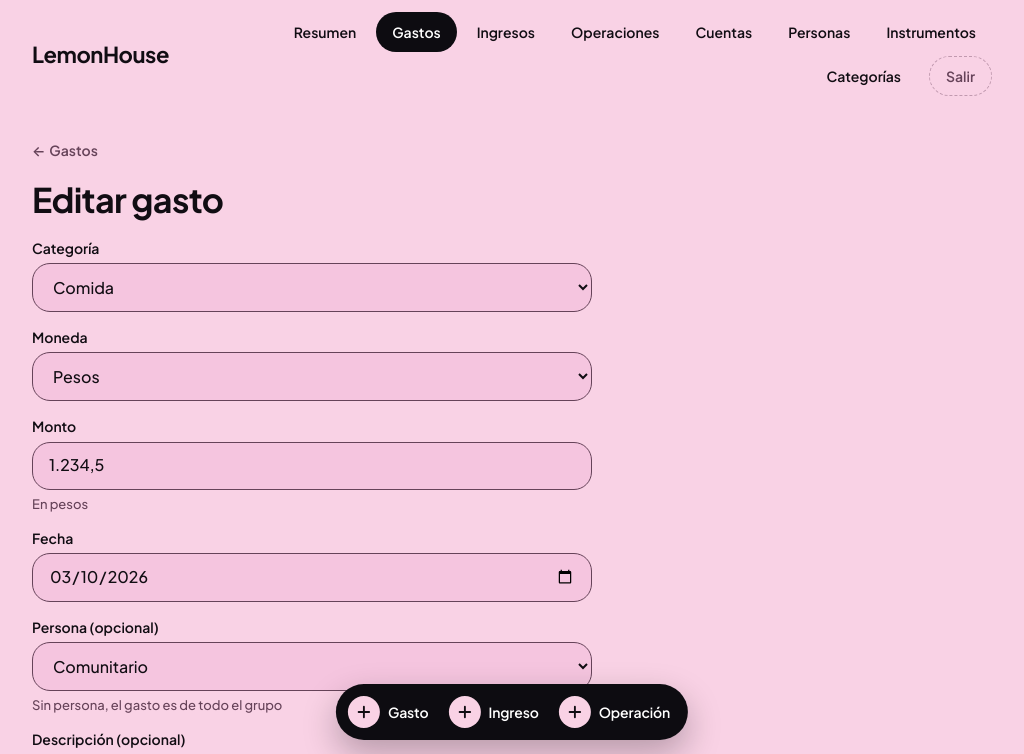
Test case: gastos › se edita, el detalle dice quién lo cargó (C27), y se borra
Expected: the dropdown labelled "Persona (opcional)" shows "Comunitario", 32,642 -> 592,691
Replace the text in the field labelled "Monto" with "2.000" at (312, 466), box 32,442 -> 592,490
(page scrolled)
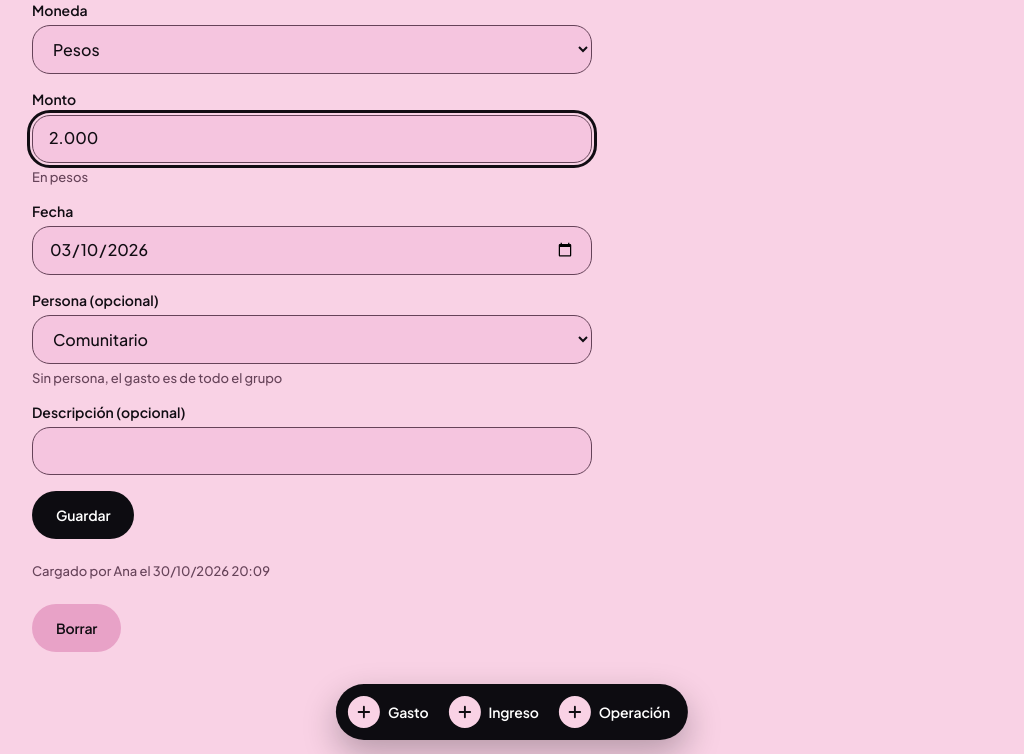
Click the button "Guardar" at (83, 515), box 32,491 -> 134,539
(page scrolled)
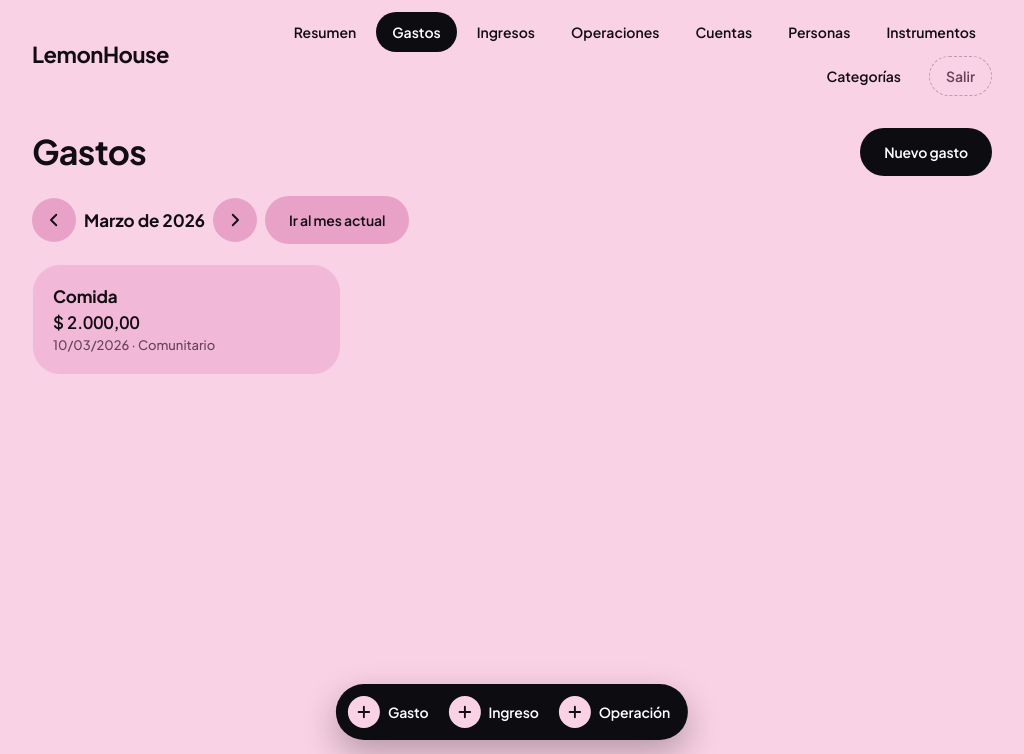
Expected: the link "Comida $ 2.000,00 10/03/2026 · Comunitario" is shown
Click the link "Comida $ 2.000,00 10/03/2026 · Comunitario" at (85, 296), box 32,264 -> 341,375
(page scrolled)
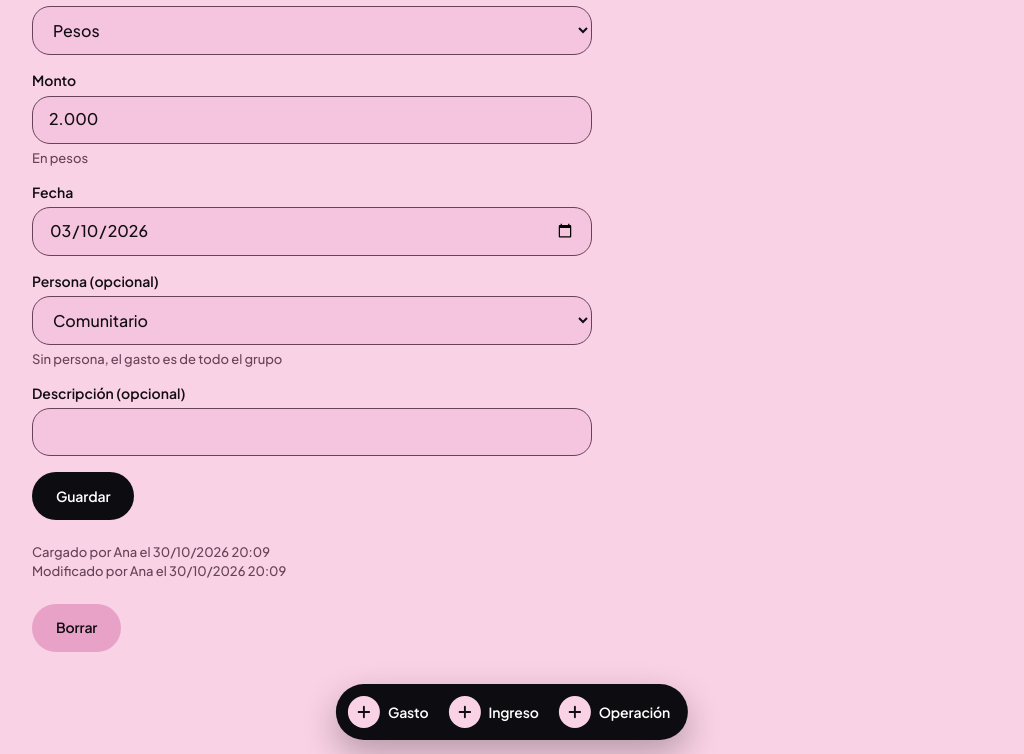
Click the button "Borrar" at (77, 628), box 32,604 -> 121,652
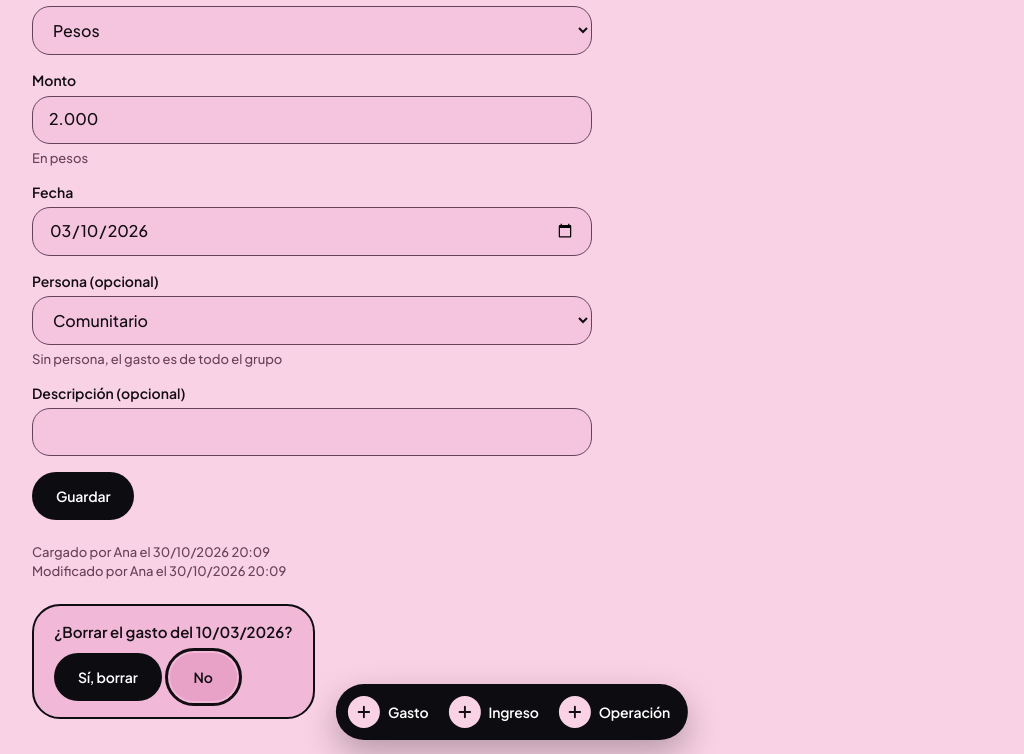
Click the button "Sí, borrar" at (108, 677), box 54,653 -> 162,701
(page scrolled)
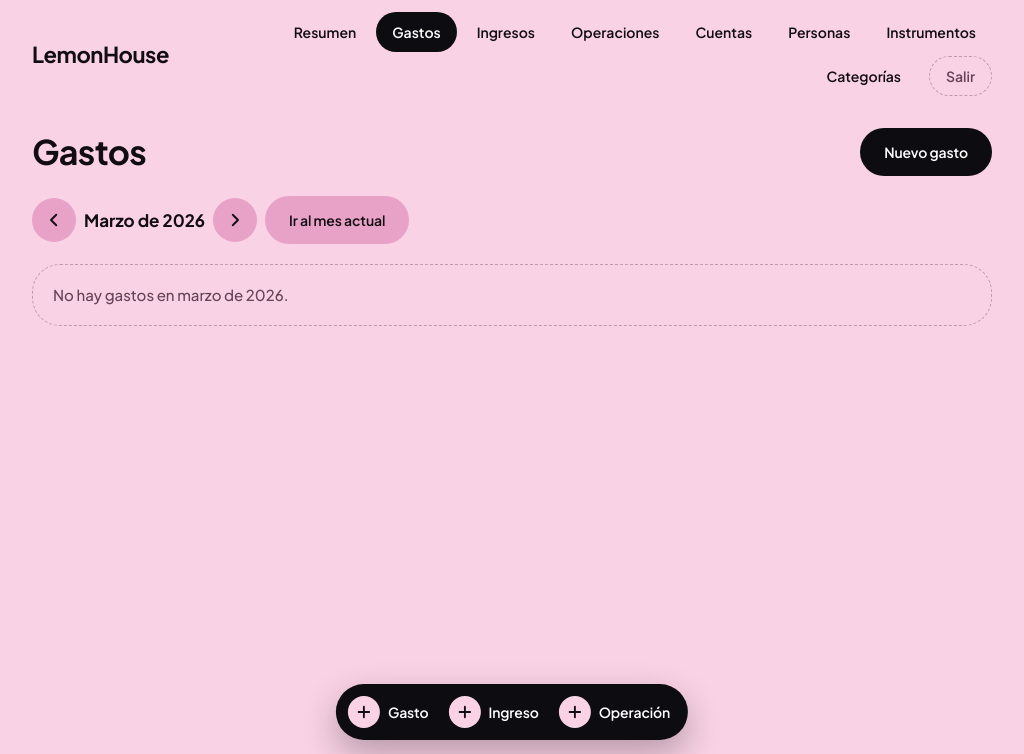
Expected: the text "No hay gastos en marzo de 2026." is shown, 32,264 -> 992,326
